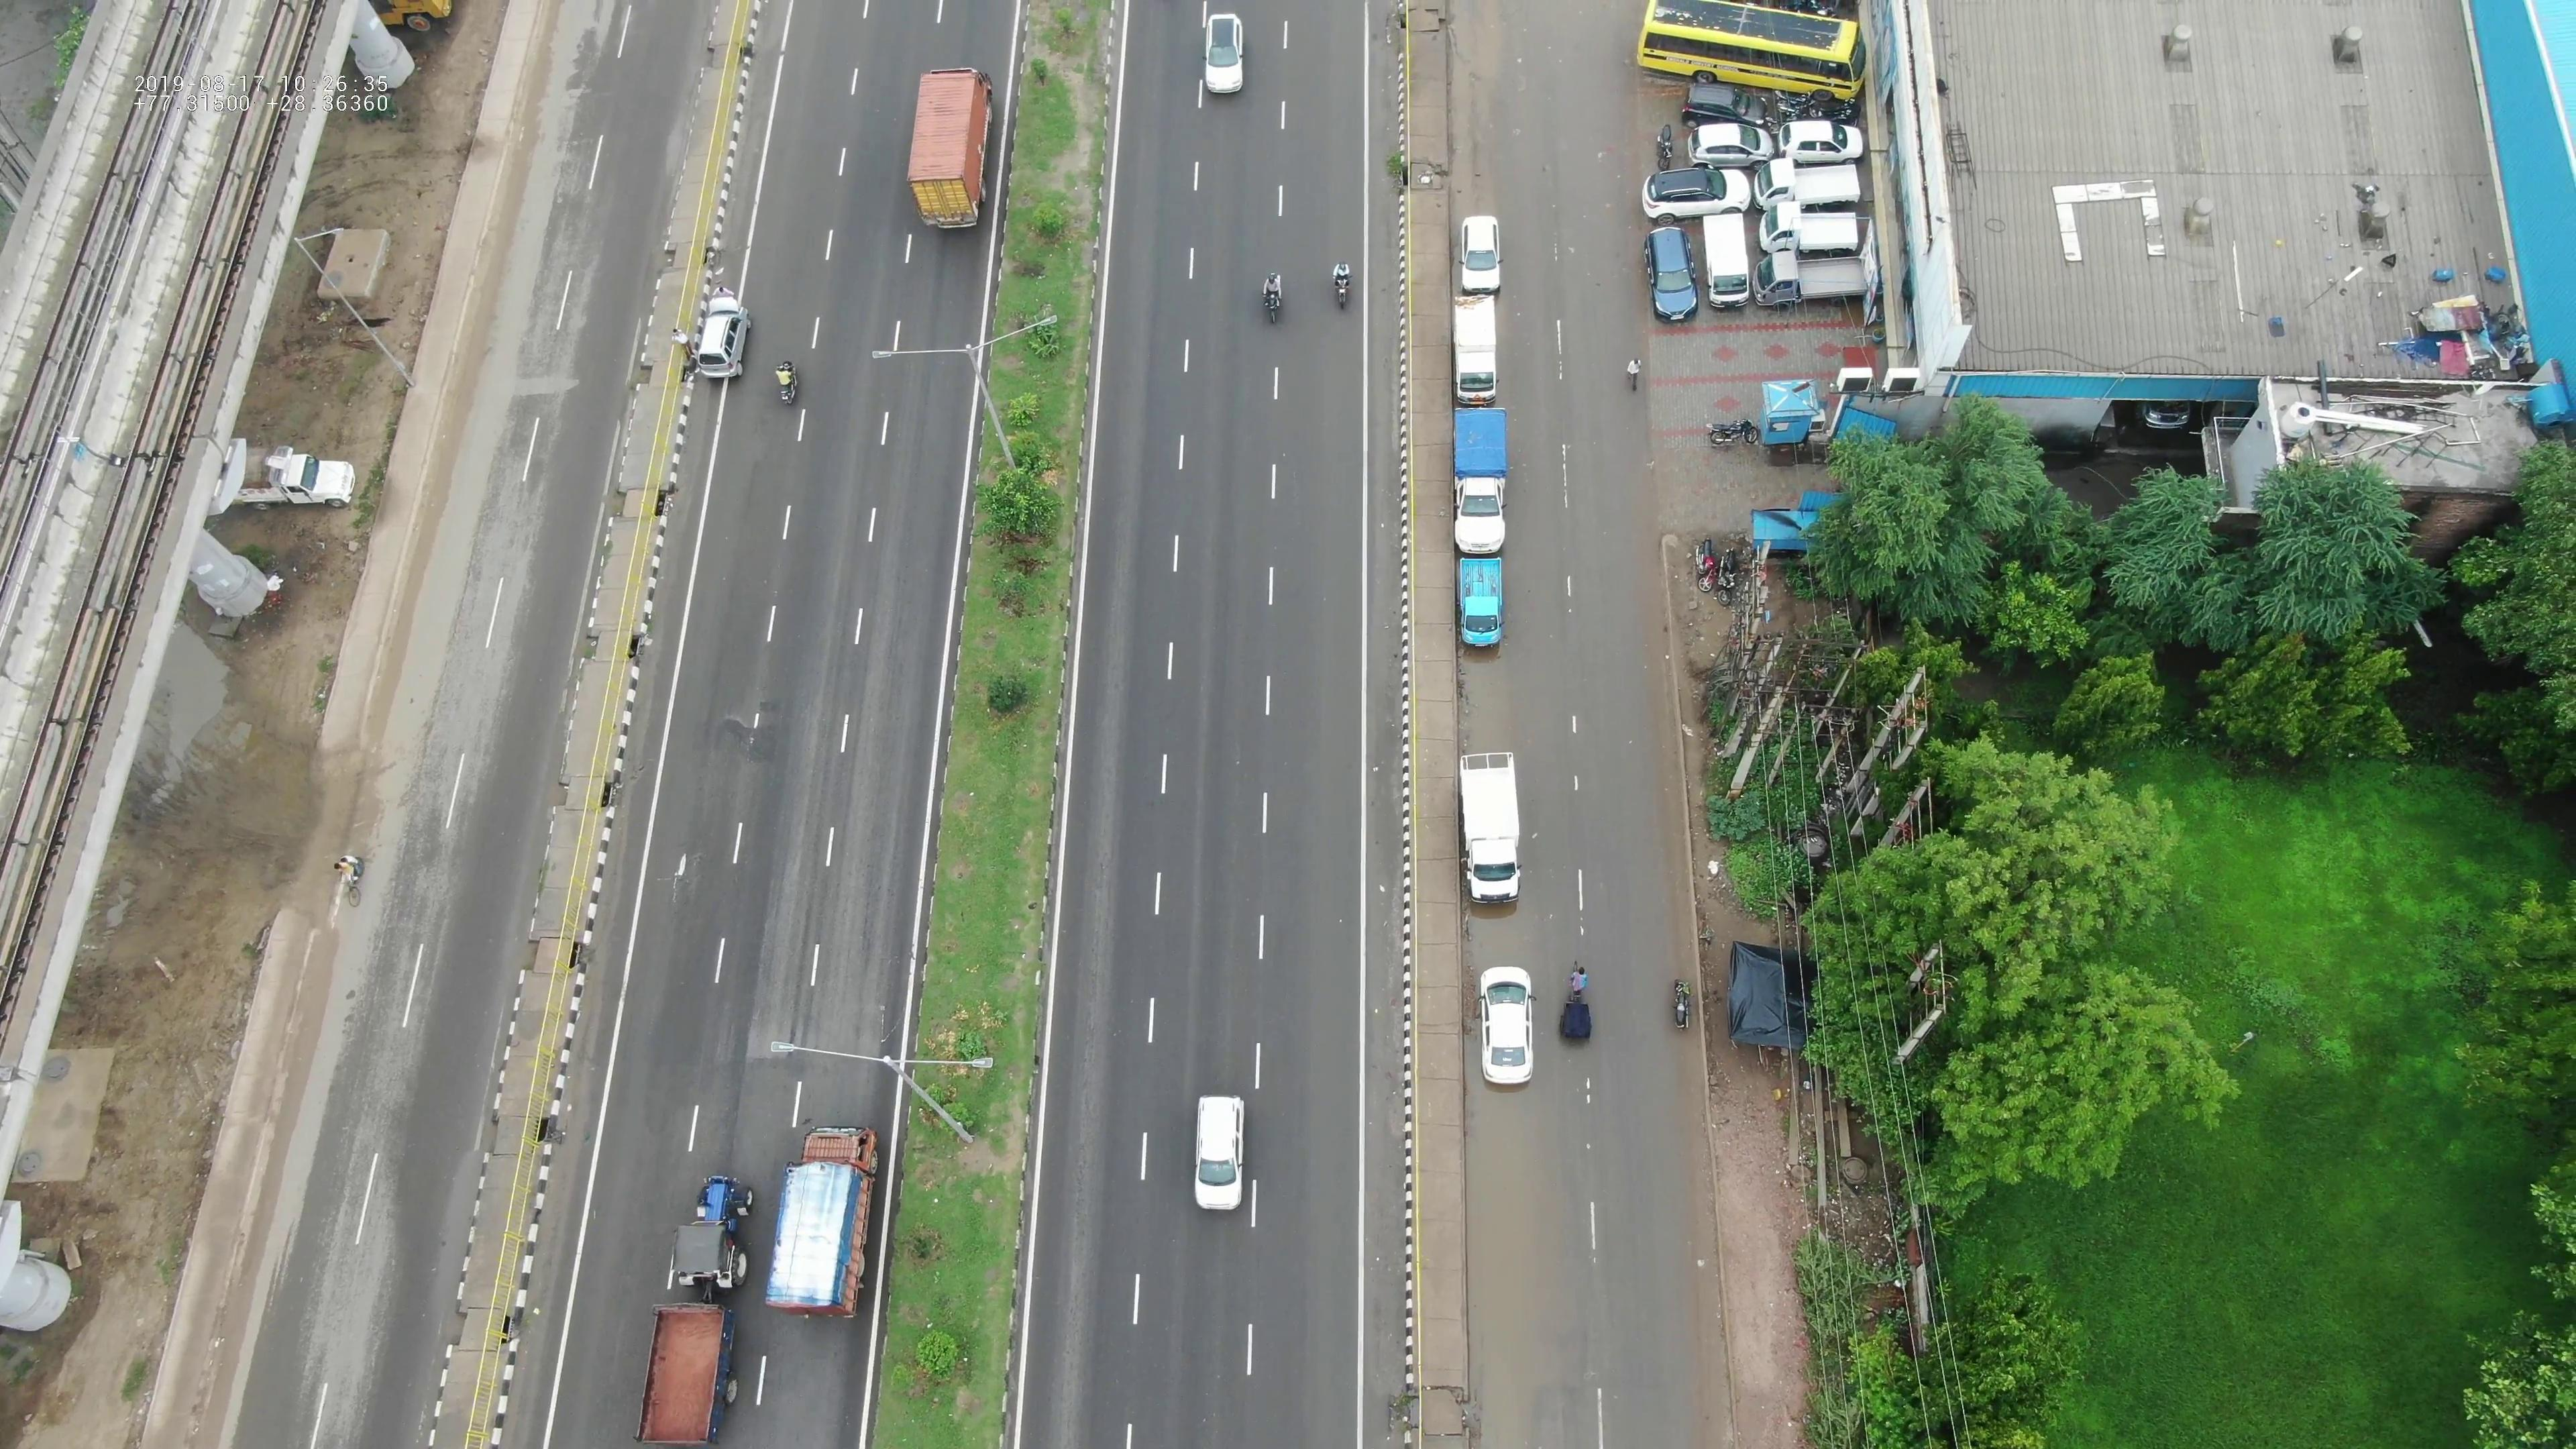Hair_cracks: (1065, 1145, 1108, 1288), (1060, 1300, 1099, 1396)
Muddy_road: (1688, 1194, 1723, 1306), (1679, 1081, 1716, 1182), (1688, 1318, 1732, 1401)
Potholes: (711, 674, 816, 805)
Waterlogging: (1472, 1120, 1559, 1428)
